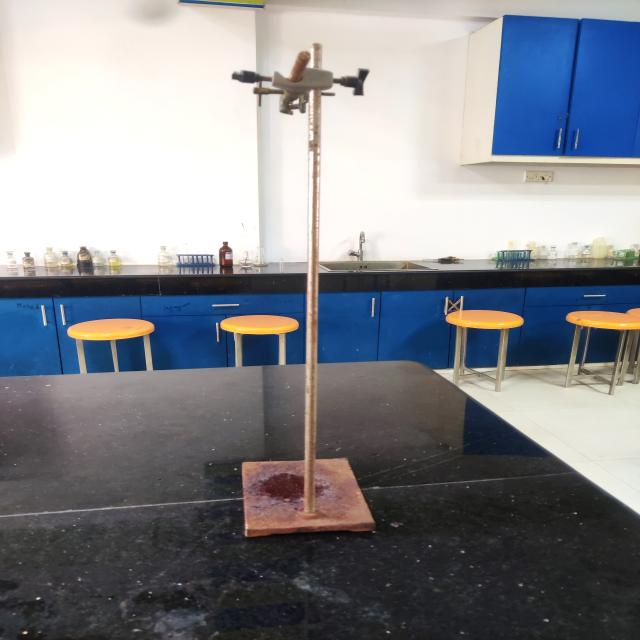Burette_Stands: (202, 29, 396, 548)
